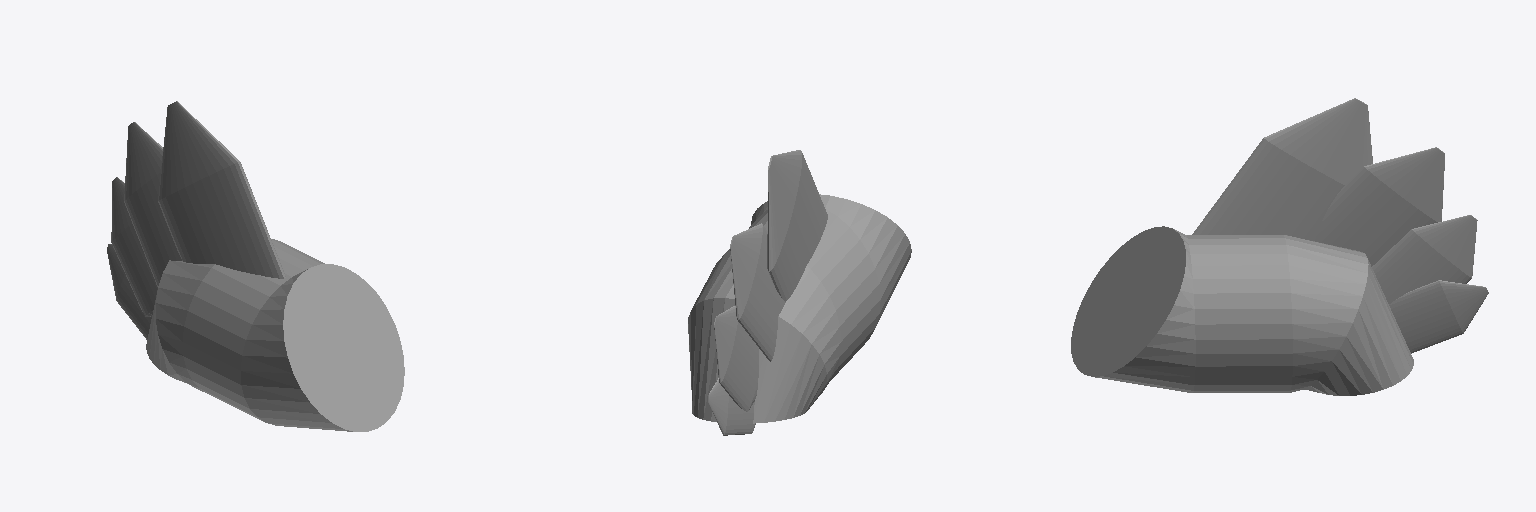
File: RBsune.obj
3 views of the same model, side by side, from view 1: azimuth 30°, elevation 25°; view 2: azimuth 150°, elevation 25°; view 3: azimuth 270°, elevation 25° (orthographic).
Visible parts, largest first — view 1: 後ろ足.003; view 2: 後ろ足.003; view 3: 後ろ足.003.
Part boxes in pixels (bbox=[...]): 後ろ足.003: bbox=[107, 101, 404, 431]; 後ろ足.003: bbox=[688, 150, 911, 435]; 後ろ足.003: bbox=[1071, 98, 1488, 395].
Bounding box in the file's own units: 0.4292 × 0.73 × 1.